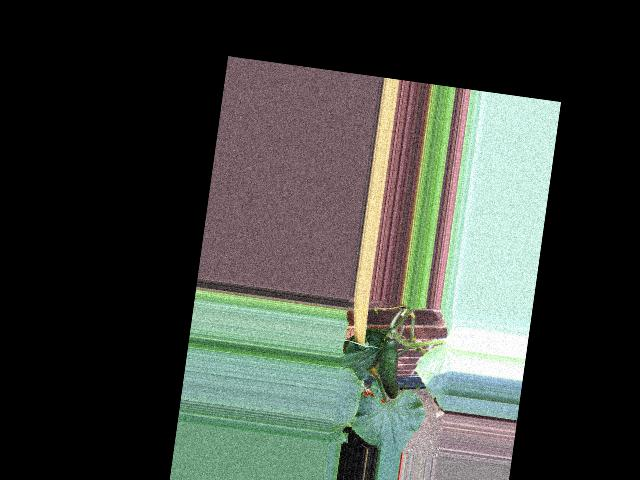cucumber: (374, 336, 406, 399)
